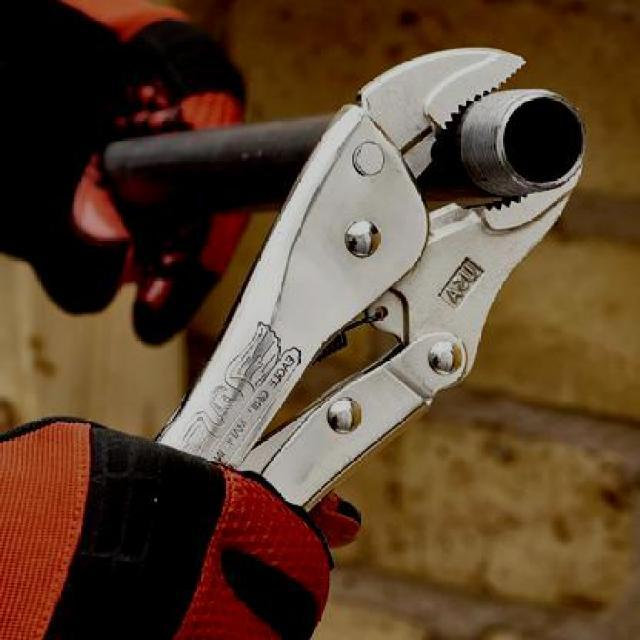pliers: (242, 46, 582, 445)
